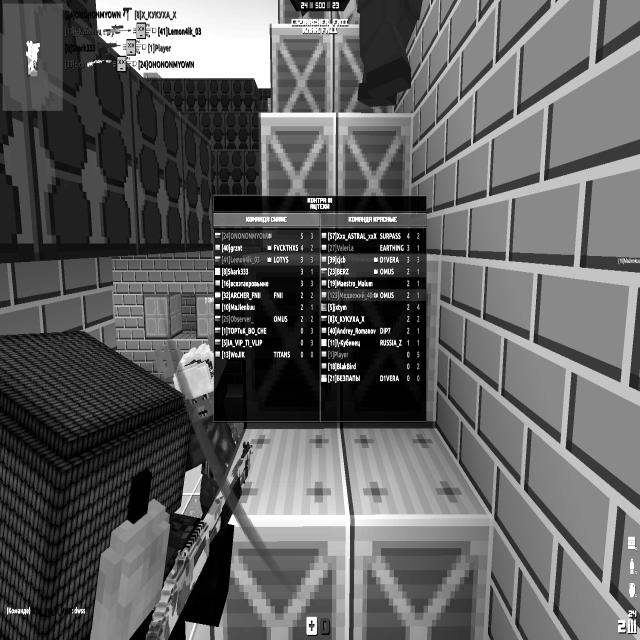Head: (0, 331, 187, 640), (174, 342, 228, 429)
Player: (172, 337, 244, 515), (354, 0, 425, 107)
